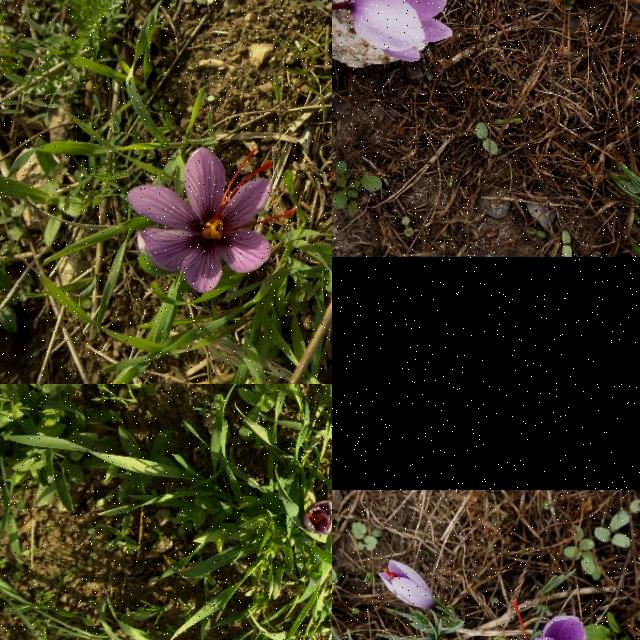flower: (128, 148, 298, 294), (345, 0, 454, 63), (509, 598, 586, 640), (377, 560, 437, 610), (303, 499, 332, 534)
